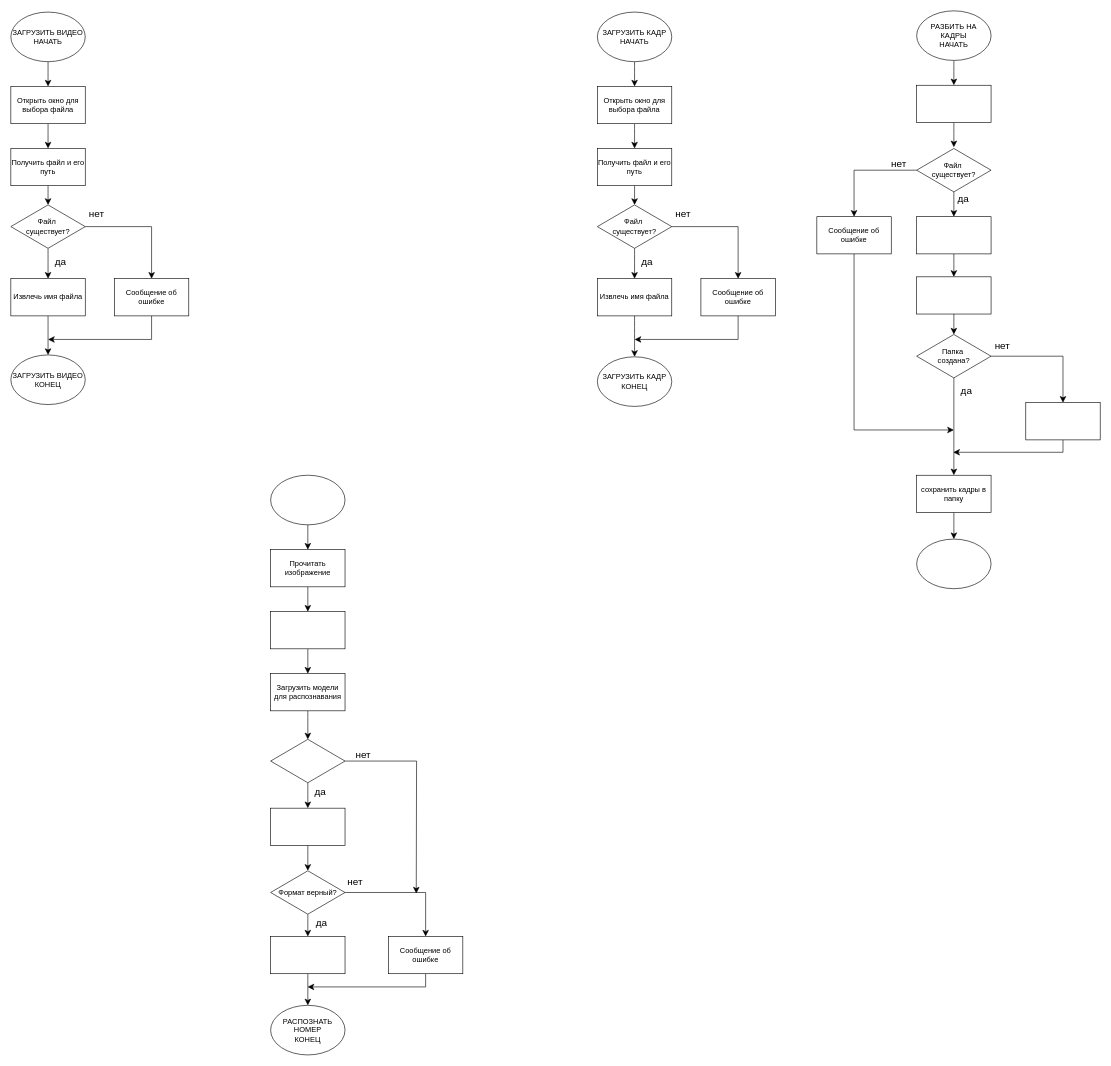
This 1111x1066 diagram has some shape labels left out. Each missing label, with the centre of its shape:
"Вернуть распознанный текст" goes at point (307, 955).
"Выполнить распознавание" goes at point (307, 826).
"Модели загружены?" goes at point (307, 761).
"определить частоту кадров для сохранения" goes at point (953, 235).
"поделить видео с заданной частотой кадров" goes at point (953, 295).
"Получить имя файла" goes at point (953, 103).
"Преобразовать изображение" goes at point (307, 630).
"РАЗБИТЬ НА КАДРЫ КОНЕЦ" goes at point (953, 563).
"РАСПОЗНАТЬ НОМЕР НАЧАТЬ" goes at point (307, 500).
"создать папку с именем файла" goes at point (1062, 421).
